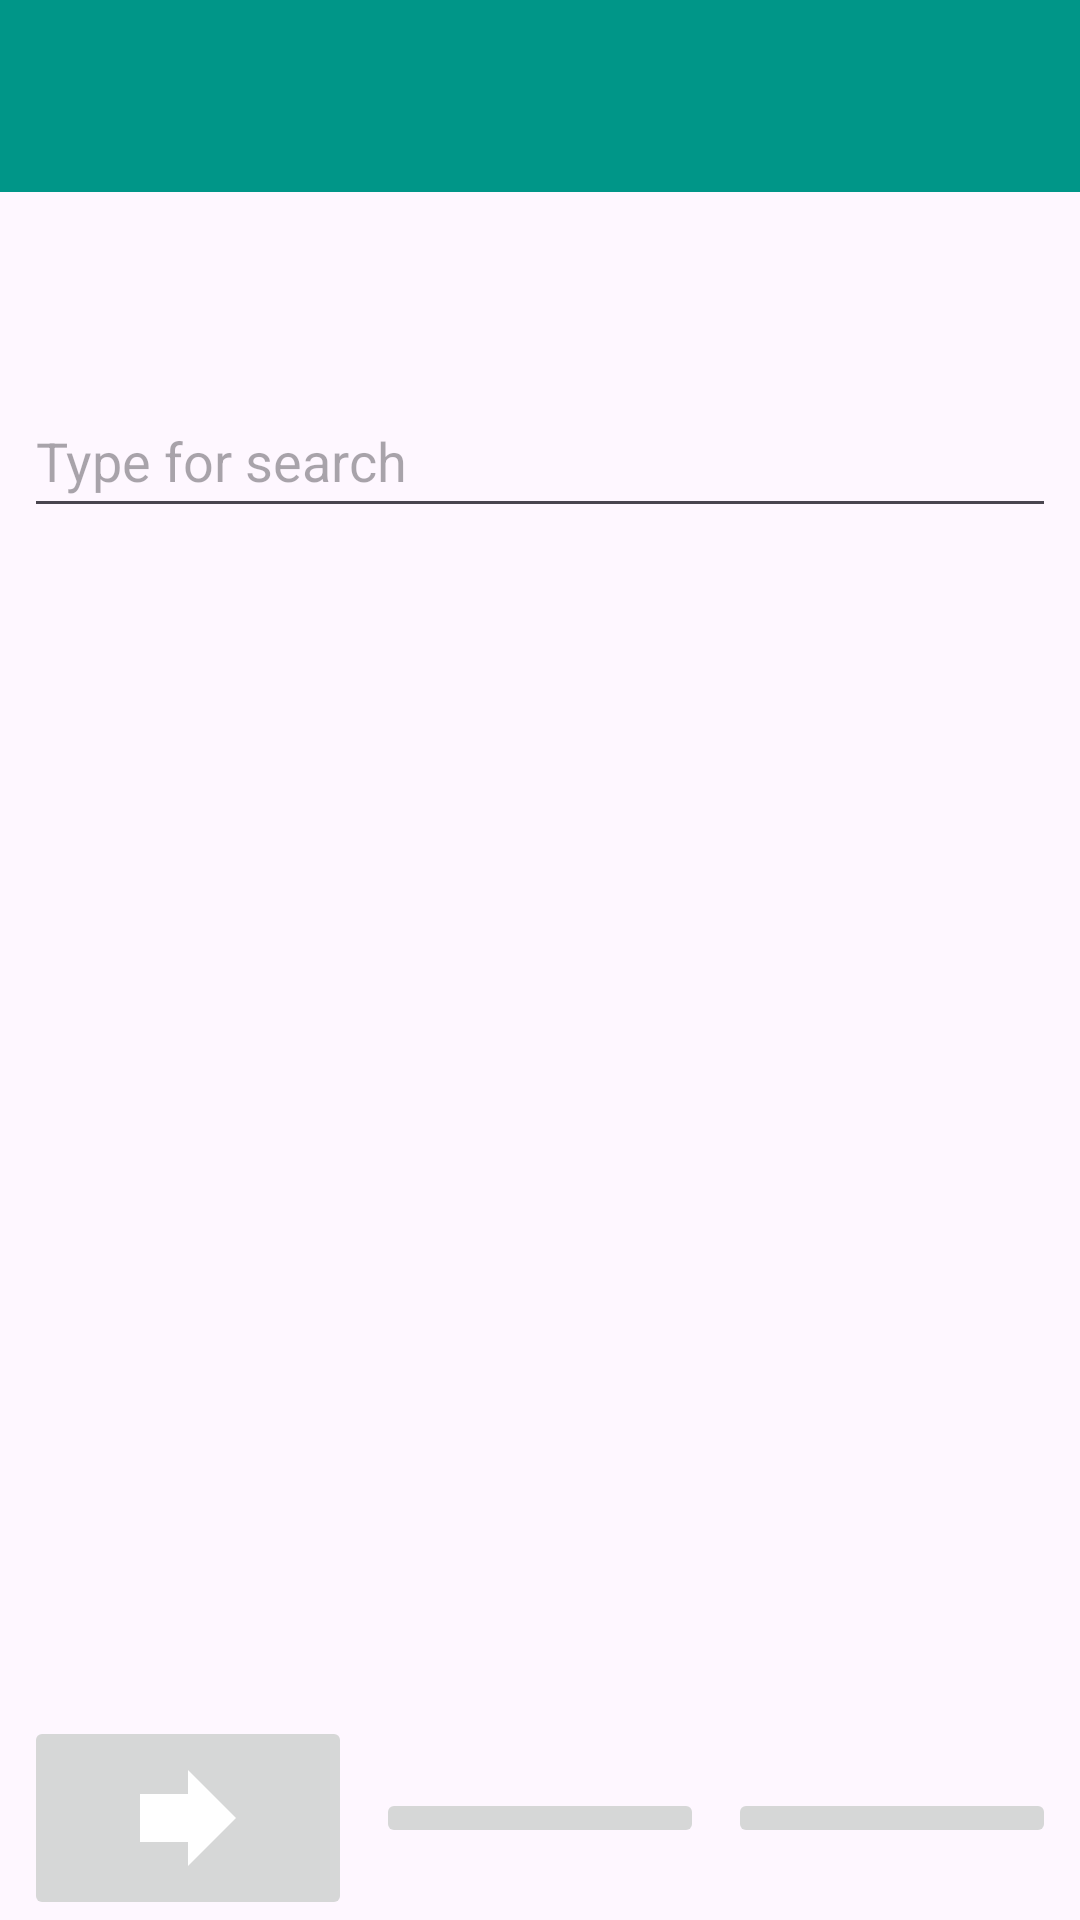

Named icons in this screenshot (1080 × 1920) and their centers, (x,y):
Run repertoryzation: (188,1818)
